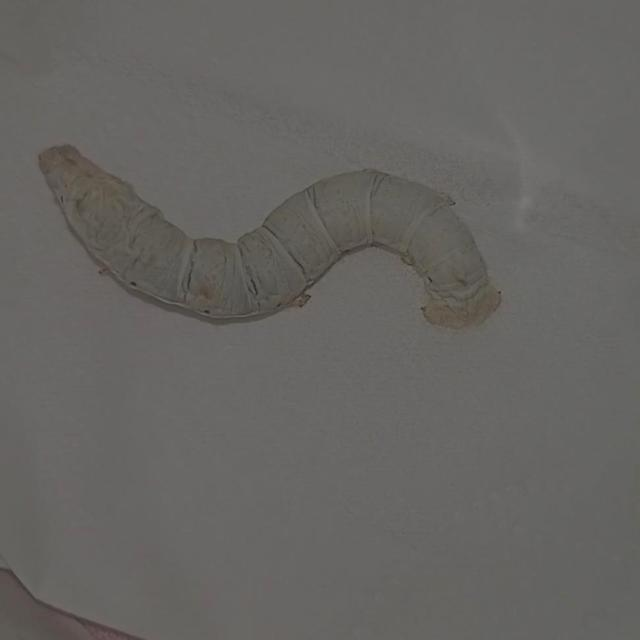Healthy: (21, 120, 521, 343)
